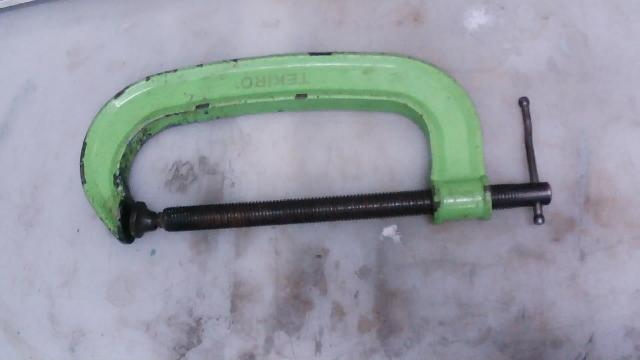tekiro_c_clamp: (63, 39, 573, 293)
